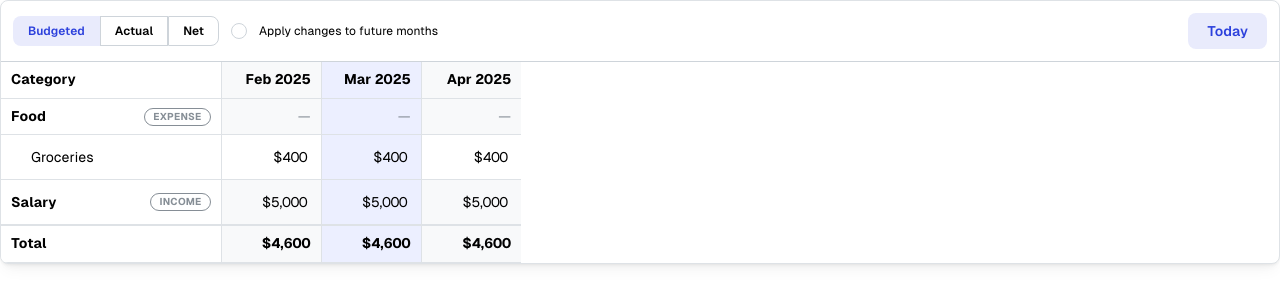
Scenario: BudgetMatrixView › applies to every following month when checked, including edits to past months
Expected: the table named "Budget matrix" is shown, left=1, top=62, right=521, bottom=263
Click the checkbox labelled "Apply changes to future months" at point(239, 31), box left=231, top=23, right=247, bottom=39
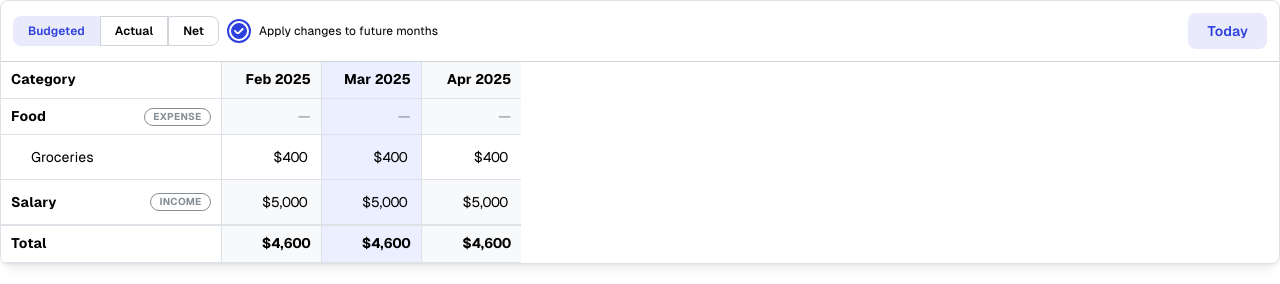
Replace the text in the field named "Groceries budget for Feb 2025" with "450" at point(271, 157), box left=232, top=142, right=310, bottom=172
Then press Enter
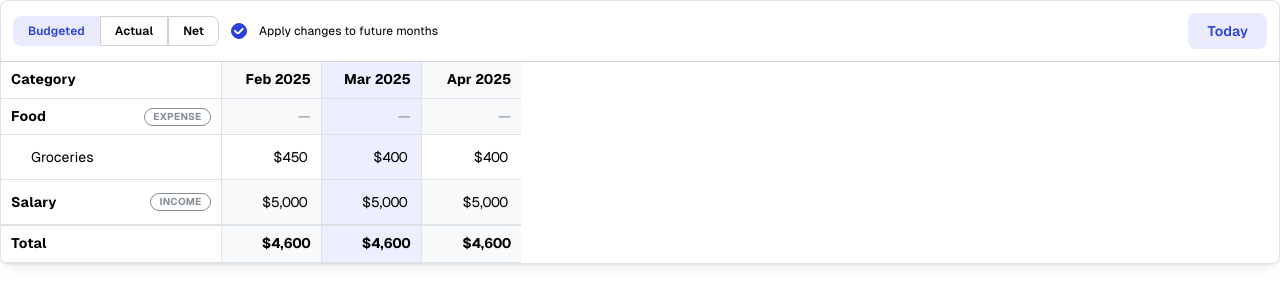
Replace the text in the field named "Groceries budget for Mar 2025" with "450" at point(371, 157), box left=332, top=142, right=410, bottom=172
Then press Enter
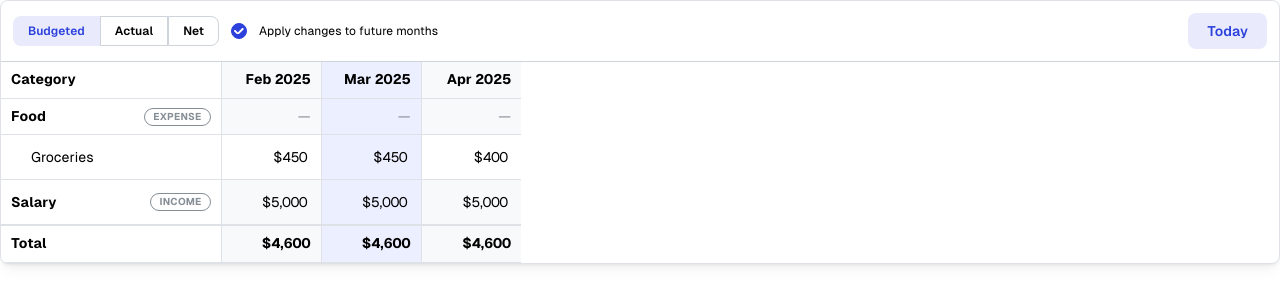
Replace the text in the field named "Groceries budget for Apr 2025" with "450" at point(471, 157), box left=432, top=142, right=511, bottom=172
Then press Enter
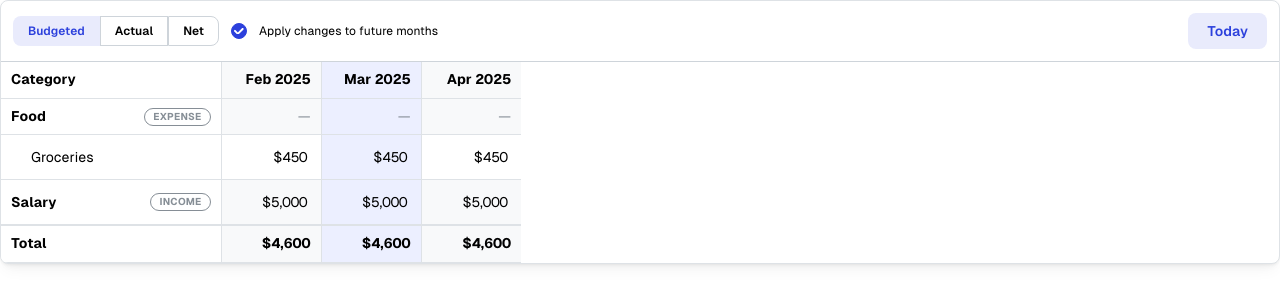
Click the button "Actual" at point(134, 31), box left=100, top=16, right=168, bottom=46
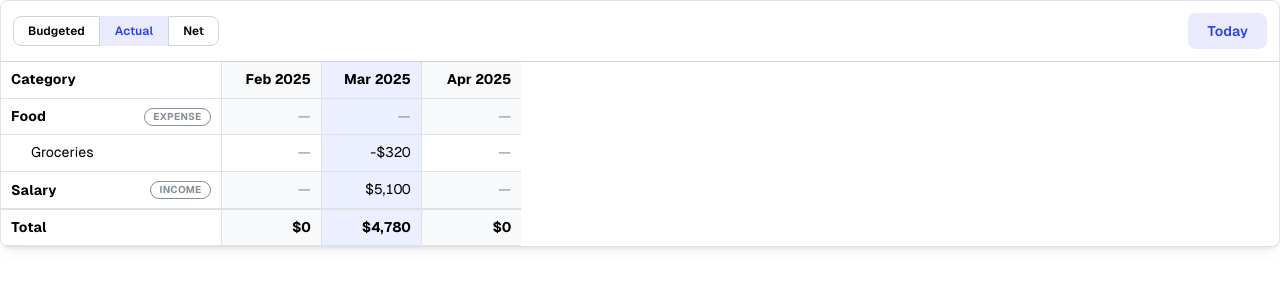
Click the button "Budgeted" at point(56, 31), box left=13, top=16, right=100, bottom=46
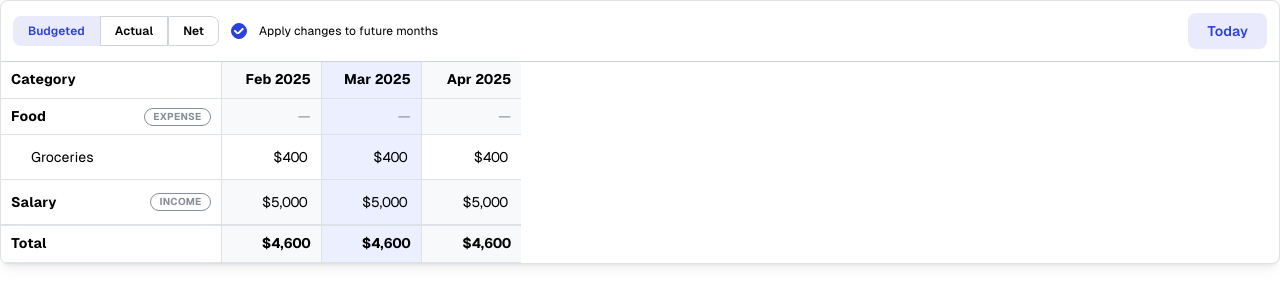
Result: the checkbox is checked at left=231, top=23, right=247, bottom=39
